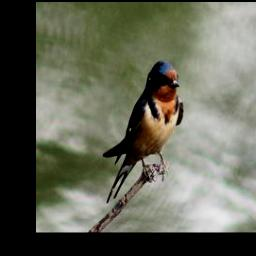Swallow: (106, 59, 186, 205)
